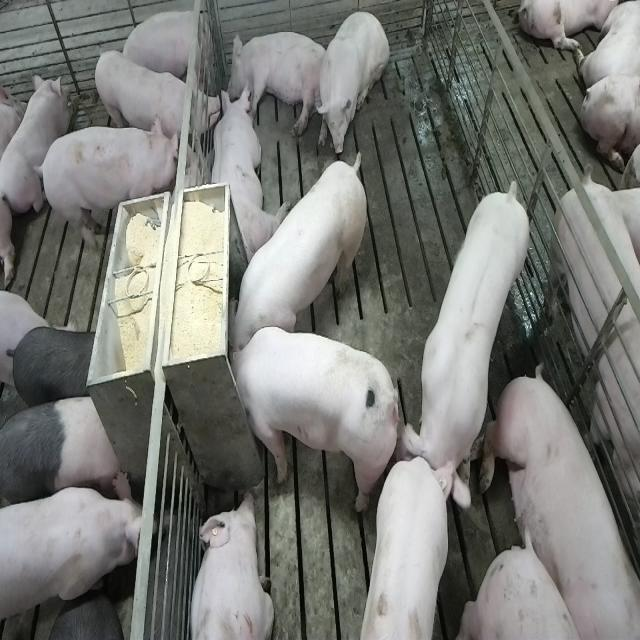Feeding: (220, 324, 395, 514), (230, 144, 372, 356)
Lateral_lying: (226, 29, 328, 140)
Sitting: (316, 7, 390, 158)
Standing: (396, 178, 531, 516), (542, 170, 640, 619), (2, 482, 142, 640), (35, 122, 179, 256), (360, 456, 464, 640), (2, 392, 124, 514), (7, 324, 105, 414)
Sternal_lying: (208, 85, 284, 267), (186, 490, 274, 640), (2, 72, 68, 220), (118, 7, 212, 92)
